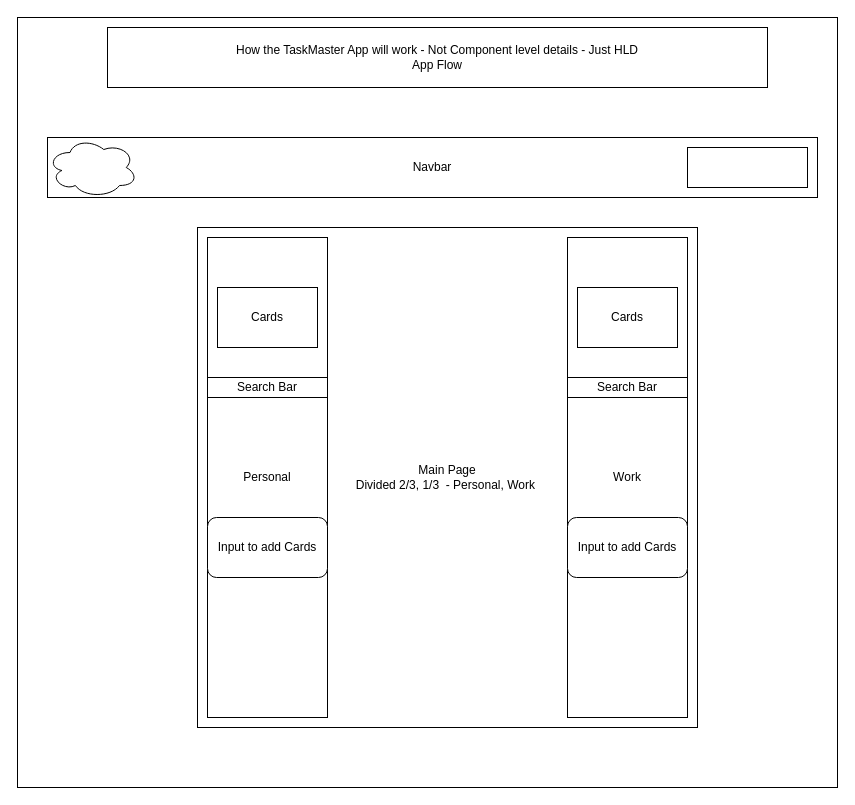
The diagram is 855 pixels wide and 805 high, and some of its shapes have lost their labels. Here are the shapes that lost their labels. From the top down, the centre of each, then its label:
At [92,167]: "Breadcrumb".
At [747,167]: "Avatar & Account".
